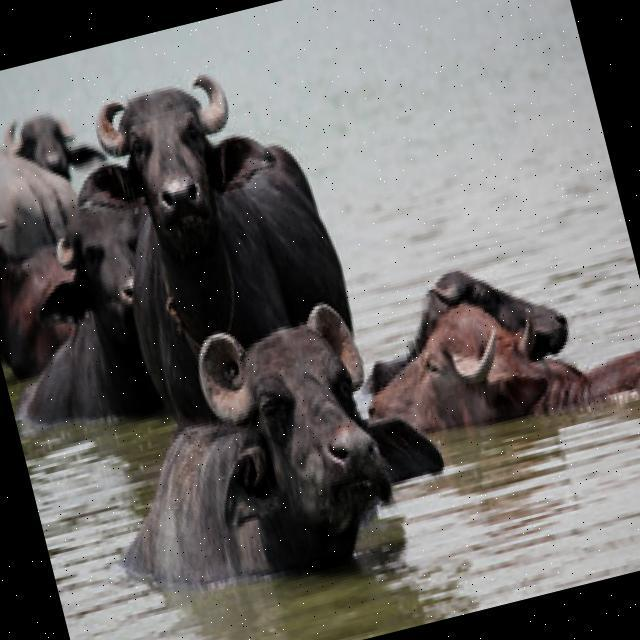Buffalo: (68, 281, 468, 618), (57, 51, 356, 366)
